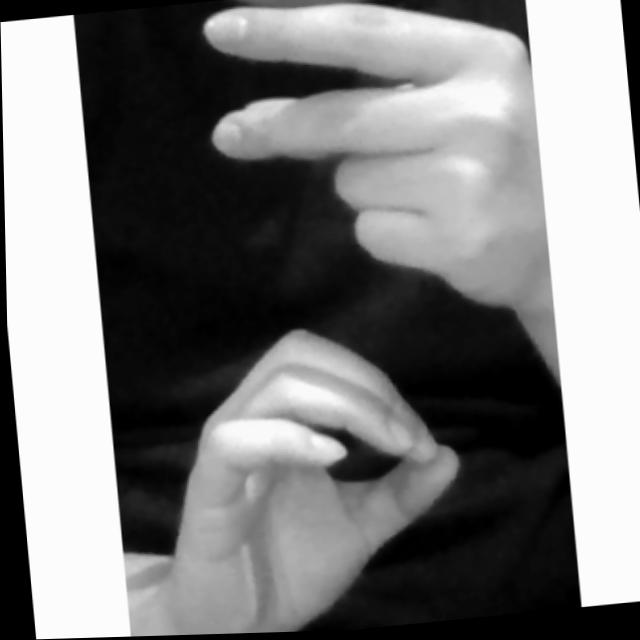O--: (73, 0, 578, 638)
